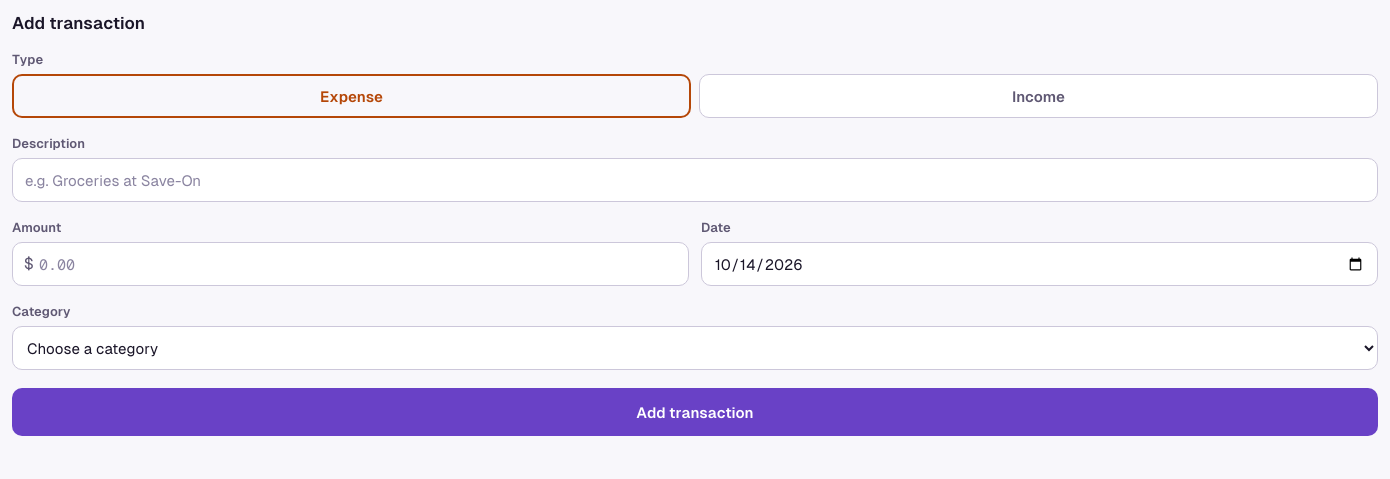
Scenario: TransactionForm › asks for a category when none is chosen
Type "Something" into the field labelled "Description" at {"x": 695, "y": 180}, box x1=12 y1=158 x2=1378 y2=202
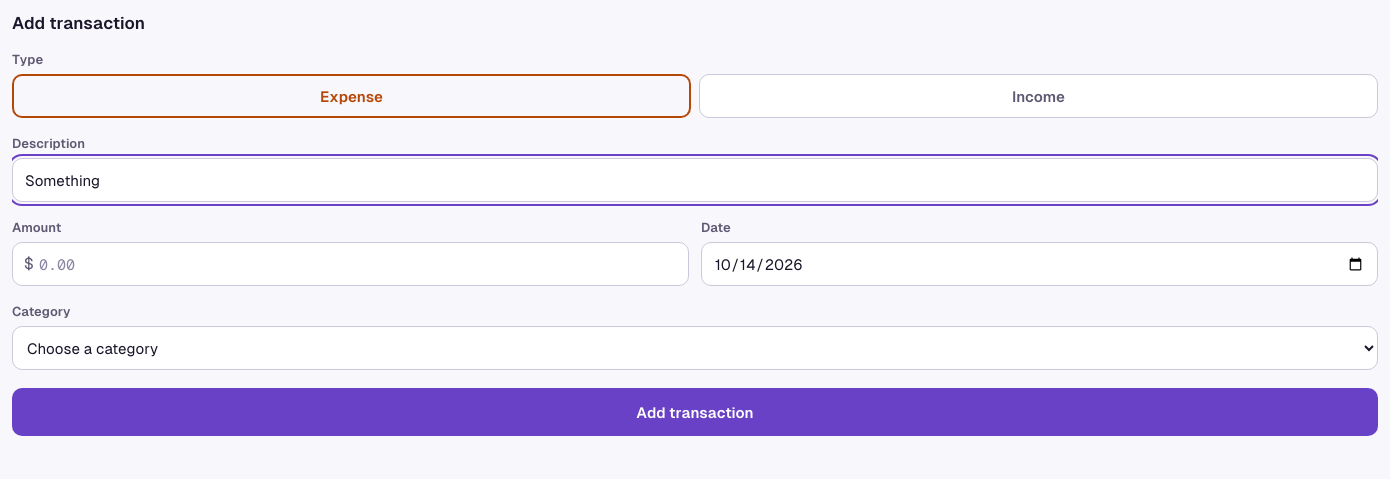
Type "16.49" into the field labelled "Amount" at {"x": 350, "y": 264}, box x1=12 y1=242 x2=689 y2=286
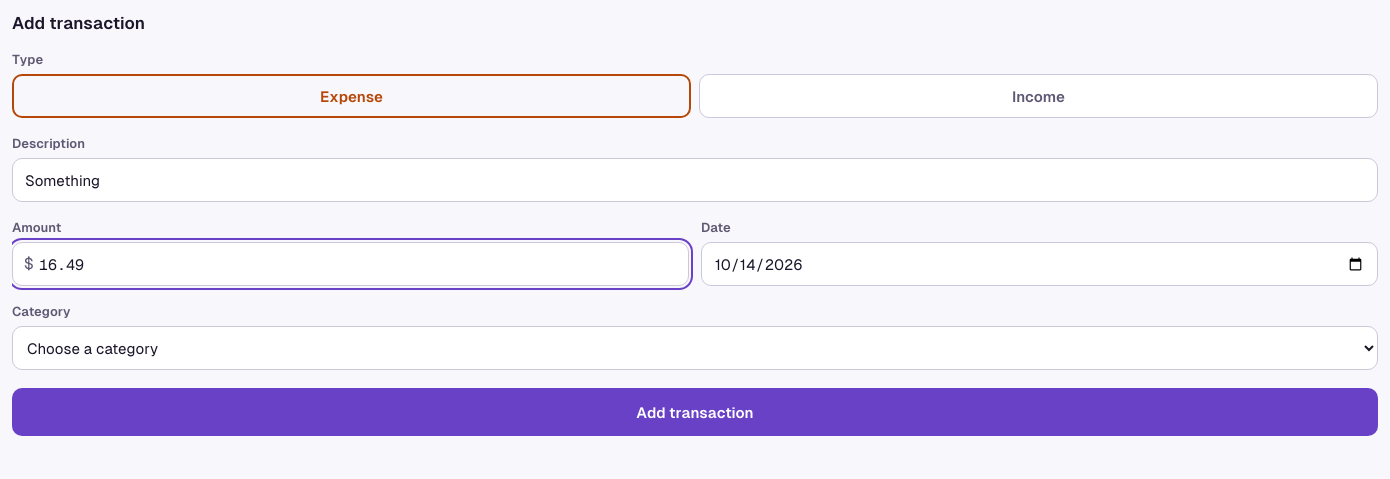
Click the button "Add transaction" at {"x": 695, "y": 412}, box x1=12 y1=388 x2=1378 y2=436
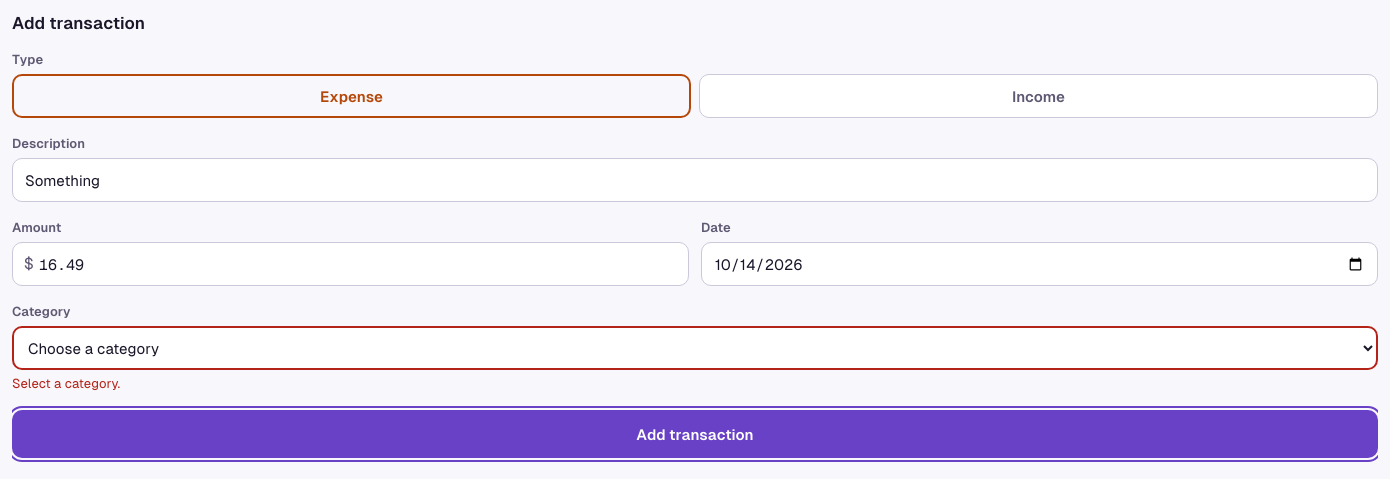
expect the text "Select a category." is shown: met, box x1=12 y1=376 x2=120 y2=391
